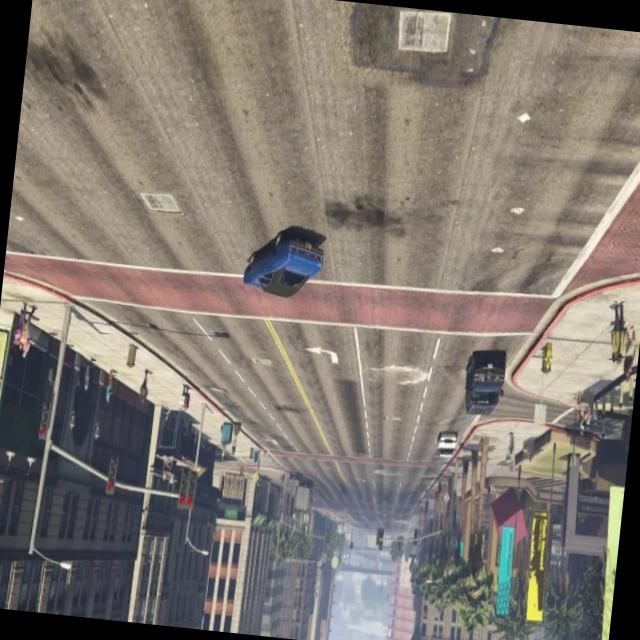Red-Signal: (173, 448, 202, 518), (32, 386, 54, 446), (102, 443, 123, 503)
